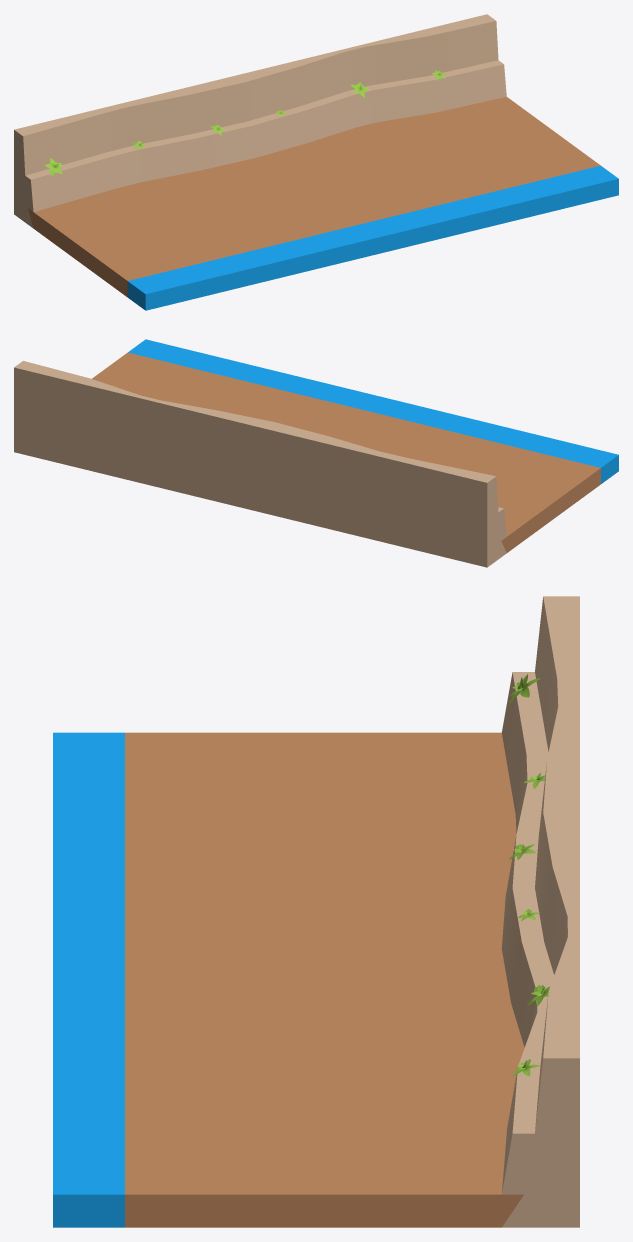
Rendered from environment.fbx.
3 views of the same model, one above another, from view 1: azimuth 30°, elevation 25°; view 2: azimuth 150°, elevation 25°; view 3: azimuth 270°, elevation 25° (orthographic). The views are drawn at different scales.
Visible parts, largest first — view 1: Environment; view 2: Environment; view 3: Environment.
Boxes of the visible parts, box(x1,y1,x2,y2) form: Environment: box(14, 14, 618, 310); Environment: box(14, 339, 618, 567); Environment: box(53, 596, 579, 1227).
Bounding box in the file's own units: 6000 × 1026 × 2892.
